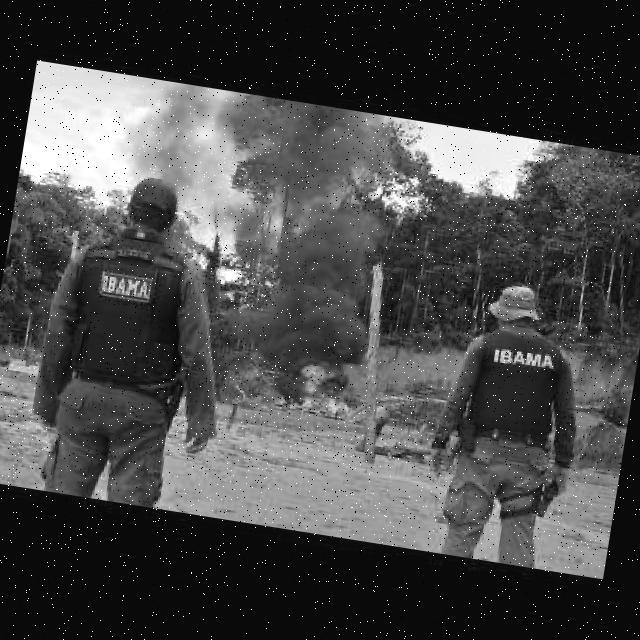Fire: (277, 359, 351, 413)
